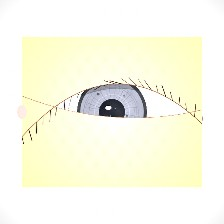hemorrhage_spot: (72, 88, 143, 146)
